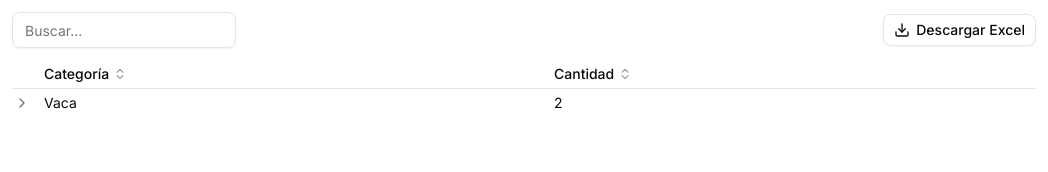
Test: LivestockByCategoryTable › expands a group to list its animal tags
Click the button named "expandir" at (22, 103), box top-left (12, 93), bottom-right (32, 113)
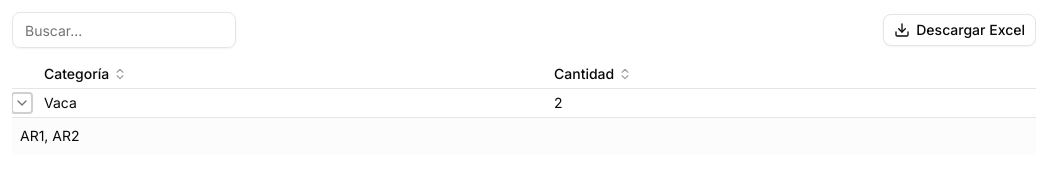
Check: the text "AR1, AR2" is shown, box top-left (12, 118), bottom-right (1036, 154)
